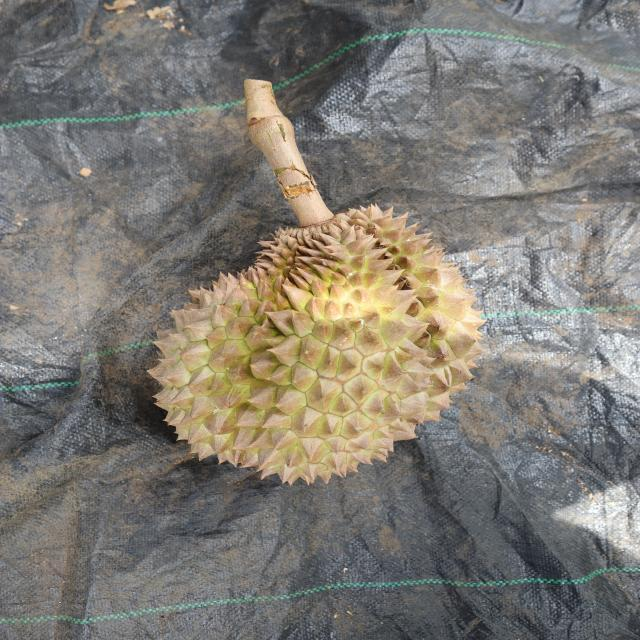mature: (149, 203, 488, 487)
